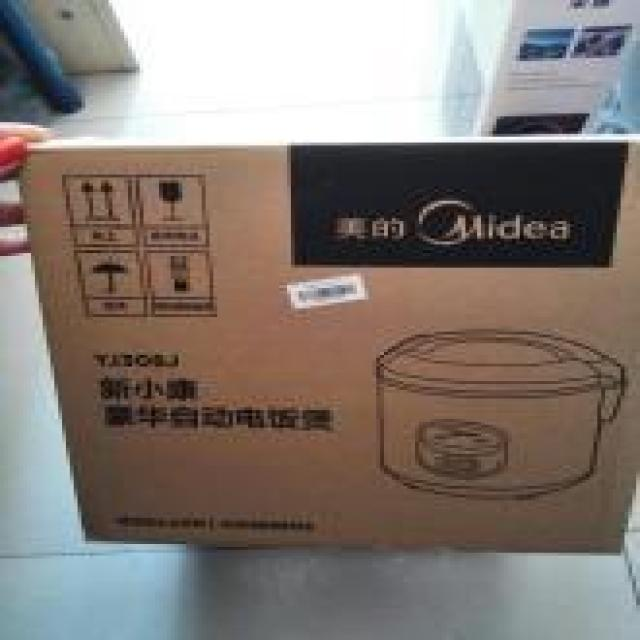cardboard: (28, 134, 640, 554)
